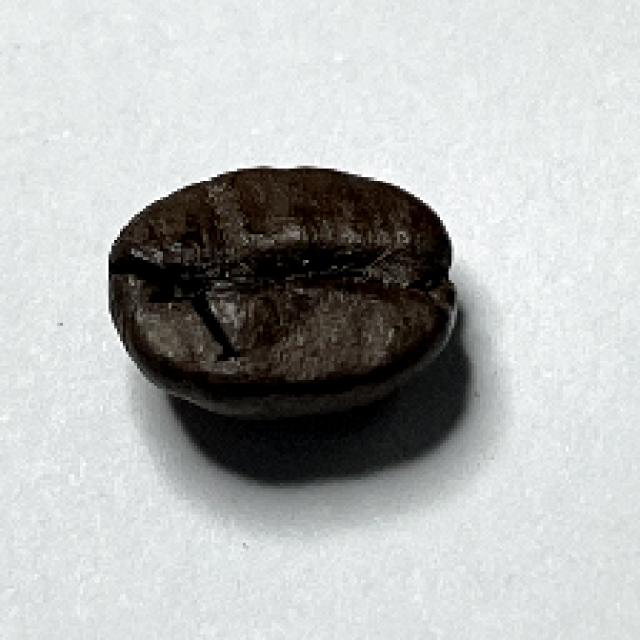bean: (100, 161, 461, 418)
